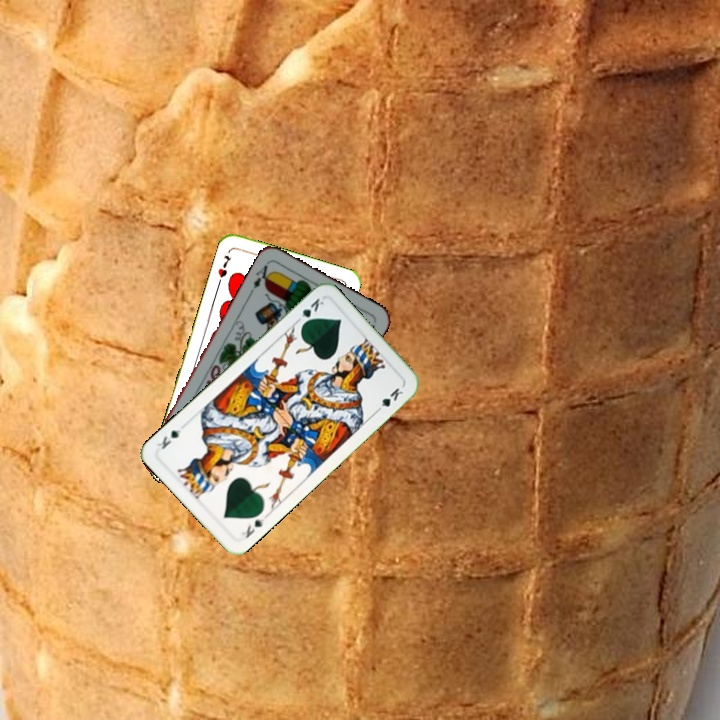EA: (246, 258, 275, 295)
GK: (292, 294, 326, 329), (237, 513, 268, 541)
H7: (214, 251, 234, 280)
